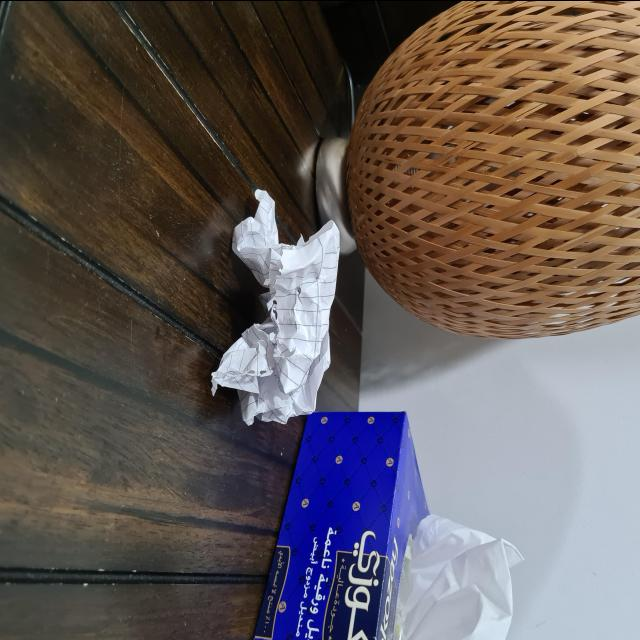kertas: (215, 186, 346, 431)
